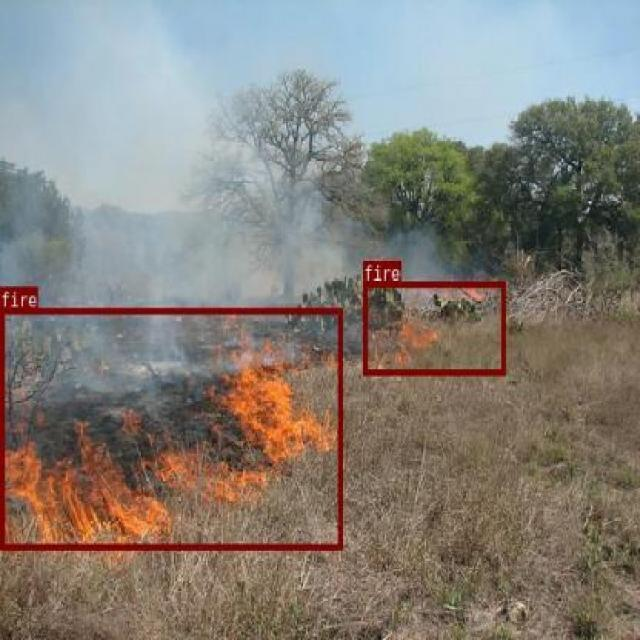Fire: (0, 306, 342, 548), (362, 280, 504, 374)
Smoke: (46, 194, 352, 291)
